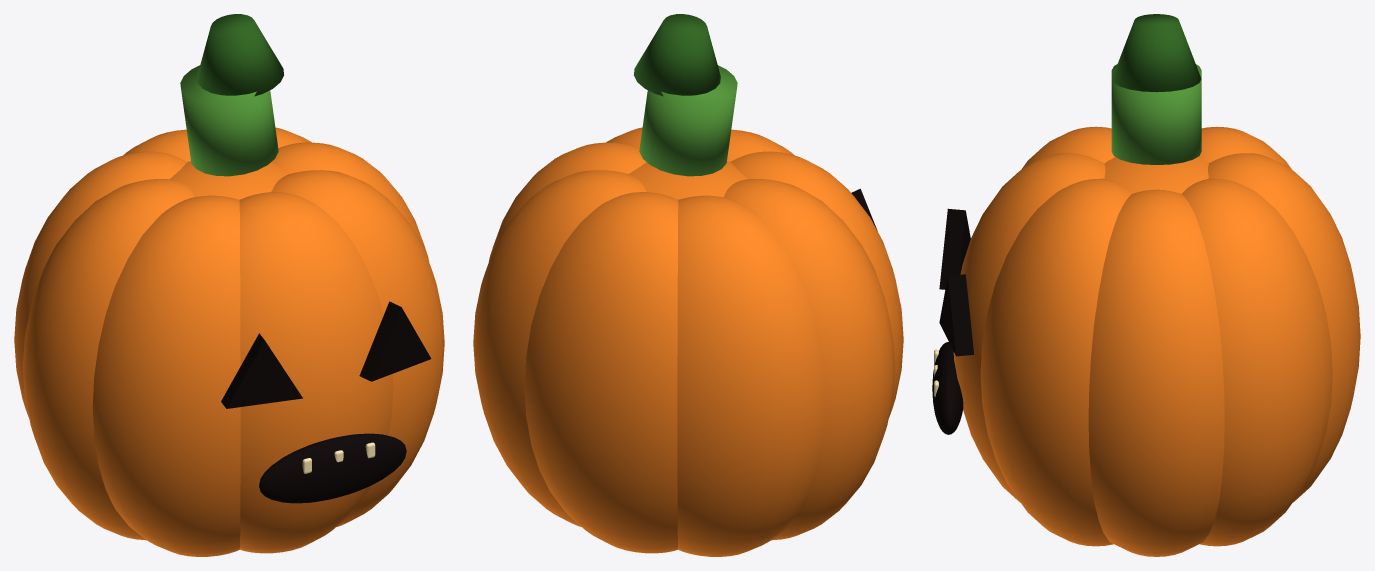
The model's file is pumpkin.glb.
The picture shows the model from 3 angles, left to right: view 1: azimuth 30°, elevation 25°; view 2: azimuth 150°, elevation 25°; view 3: azimuth 270°, elevation 25°; orthographic projection.
Parts seen in each view (by area): view 1: Pumpkin_Lobe_6, Pumpkin_Lobe_5, Pumpkin_Lobe_7, Pumpkin_Lobe_4, Pumpkin_Stem, Happy_Mouth, Pumpkin_Lobe_8, Pumpkin_Stem_Top, Pumpkin_Lobe_3, Left_Eye, Right_Eye, Pumpkin_Center (+1 smaller); view 2: Pumpkin_Lobe_1, Pumpkin_Lobe_8, Pumpkin_Lobe_7, Pumpkin_Lobe_2, Pumpkin_Stem, Pumpkin_Lobe_6, Pumpkin_Stem_Top, Pumpkin_Lobe_3, Pumpkin_Center, Pumpkin_Lobe_5; view 3: Pumpkin_Lobe_3, Pumpkin_Lobe_2, Pumpkin_Lobe_4, Pumpkin_Lobe_1, Pumpkin_Lobe_5, Pumpkin_Stem, Pumpkin_Stem_Top, Pumpkin_Center, Right_Eye, Happy_Mouth, Pumpkin_Lobe_8, Pumpkin_Lobe_6 (+1 smaller).
Boxes of the visible parts, x1,y1,x2,y2 form: Pumpkin_Lobe_6: (92,195,240,556); Pumpkin_Lobe_5: (239,192,393,553); Pumpkin_Lobe_7: (22,179,193,540); Pumpkin_Lobe_4: (271,170,444,526); Pumpkin_Stem: (180,65,278,176); Happy_Mouth: (259,433,406,503); Pumpkin_Lobe_8: (14,151,187,418); Pumpkin_Stem_Top: (197,14,283,96); Pumpkin_Lobe_3: (272,142,428,260); Left_Eye: (221,333,302,408); Right_Eye: (359,301,431,381); Pumpkin_Center: (170,161,288,199); Pumpkin_Lobe_1: (524,192,678,553); Pumpkin_Lobe_8: (677,195,825,556); Pumpkin_Lobe_7: (724,179,895,540); Pumpkin_Lobe_2: (473,170,646,526); Pumpkin_Stem: (639,65,737,176); Pumpkin_Lobe_6: (730,151,903,418); Pumpkin_Stem_Top: (634,14,720,96); Pumpkin_Lobe_3: (489,142,645,260); Pumpkin_Center: (629,161,747,199); Pumpkin_Lobe_5: (727,129,794,161); Pumpkin_Lobe_3: (1088,189,1224,556); Pumpkin_Lobe_2: (1182,178,1332,546); Pumpkin_Lobe_4: (980,178,1131,546); Pumpkin_Lobe_1: (1208,153,1360,502); Pumpkin_Lobe_5: (953,153,1105,502); Pumpkin_Stem: (1111,64,1201,164); Pumpkin_Stem_Top: (1112,14,1201,92); Pumpkin_Center: (1104,157,1208,193); Right_Eye: (939,274,974,356); Happy_Mouth: (932,342,963,434); Pumpkin_Lobe_8: (1198,126,1291,169); Pumpkin_Lobe_6: (1021,126,1114,169).
Size of the model in its own units: 2.2 by 2.68 by 2.1.
